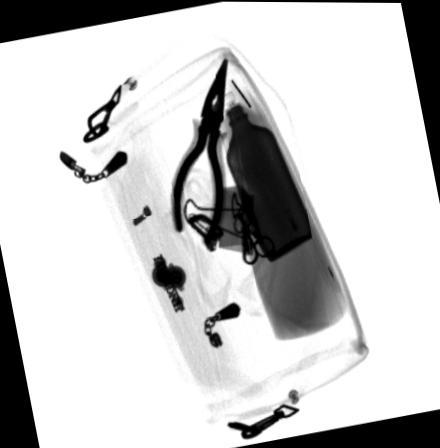Pliers: (169, 56, 231, 248)
